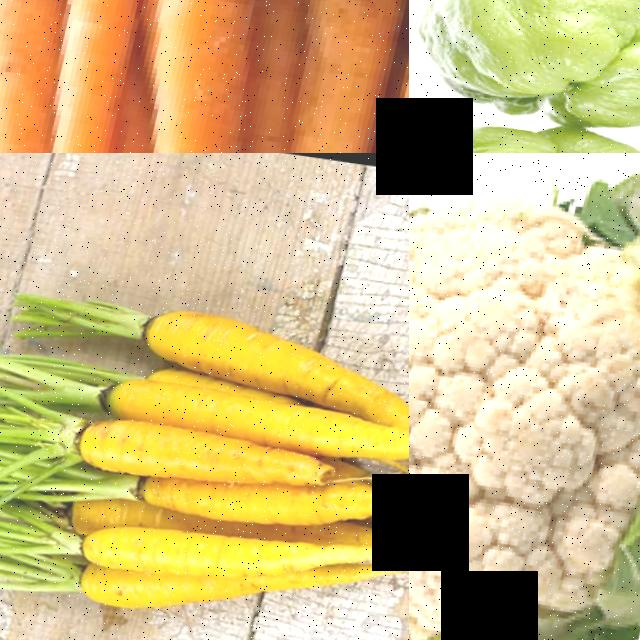carrot: (113, 293, 409, 406), (82, 0, 280, 153), (213, 0, 407, 153), (109, 365, 409, 457), (0, 0, 168, 153), (56, 405, 326, 483), (90, 509, 331, 577), (158, 465, 374, 522), (82, 560, 264, 622)
cauliflower: (409, 153, 640, 640)
chayote: (409, 0, 640, 145), (409, 105, 640, 153)
